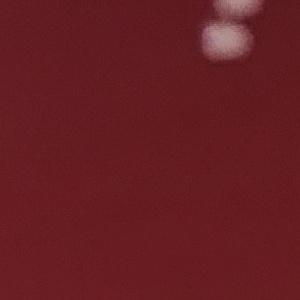colony: (194, 16, 262, 71), (210, 0, 272, 25)
